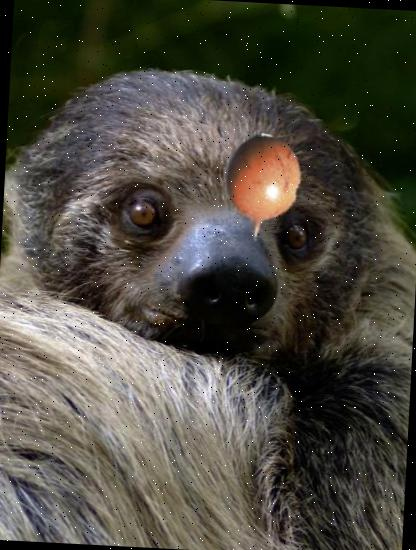Granadilla: (204, 130, 318, 244)
